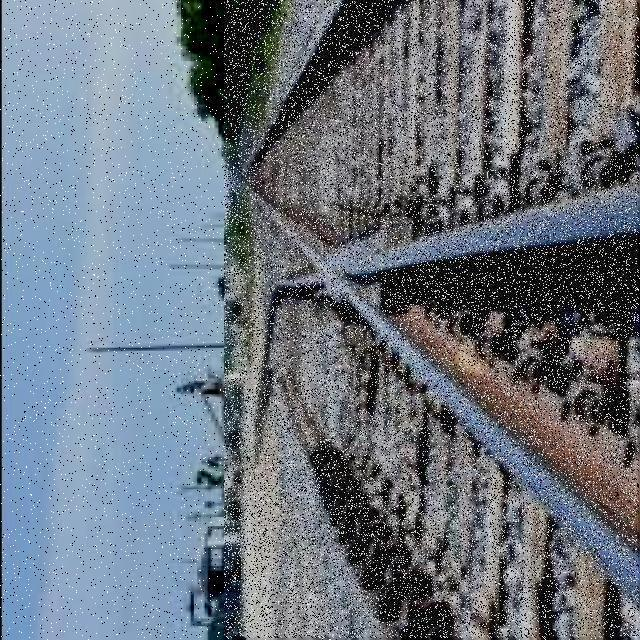rail: (226, 2, 639, 638)
